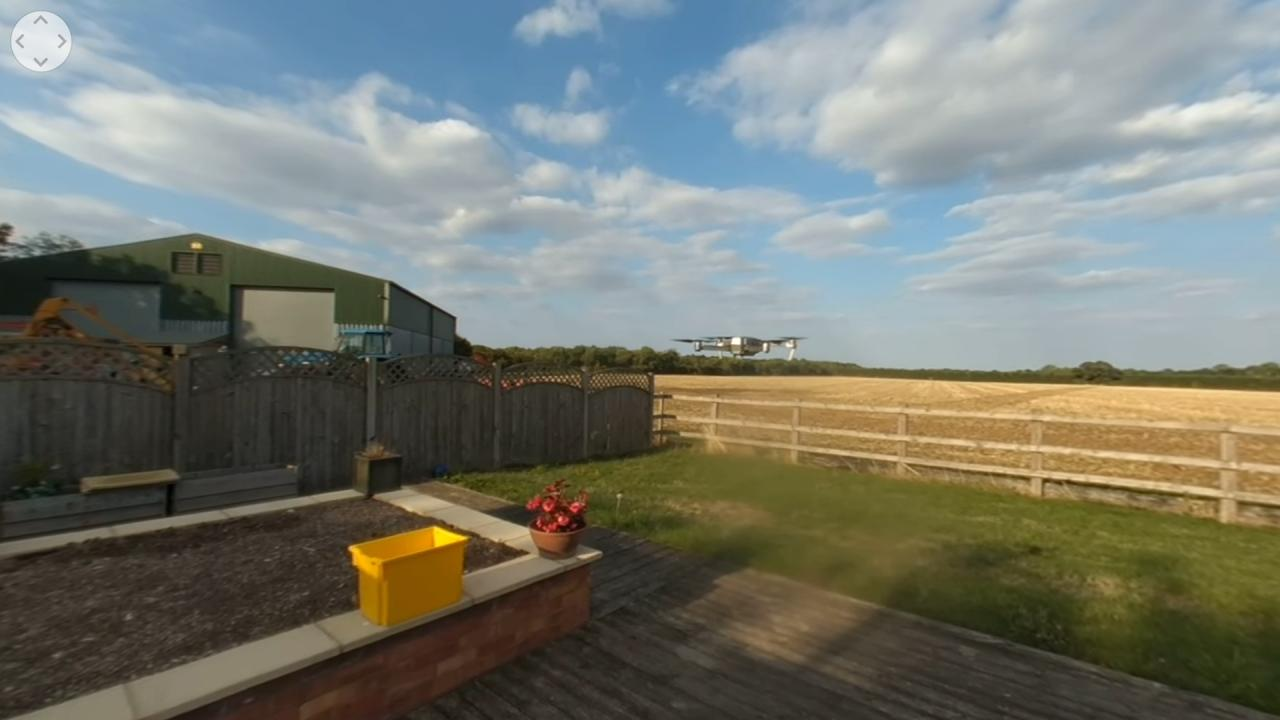Drone: (662, 324, 819, 366)
